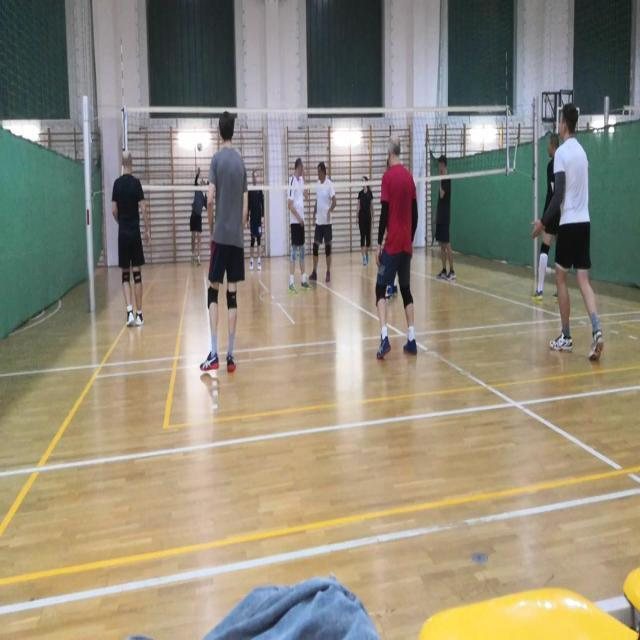volleyball: (197, 146, 202, 152)
